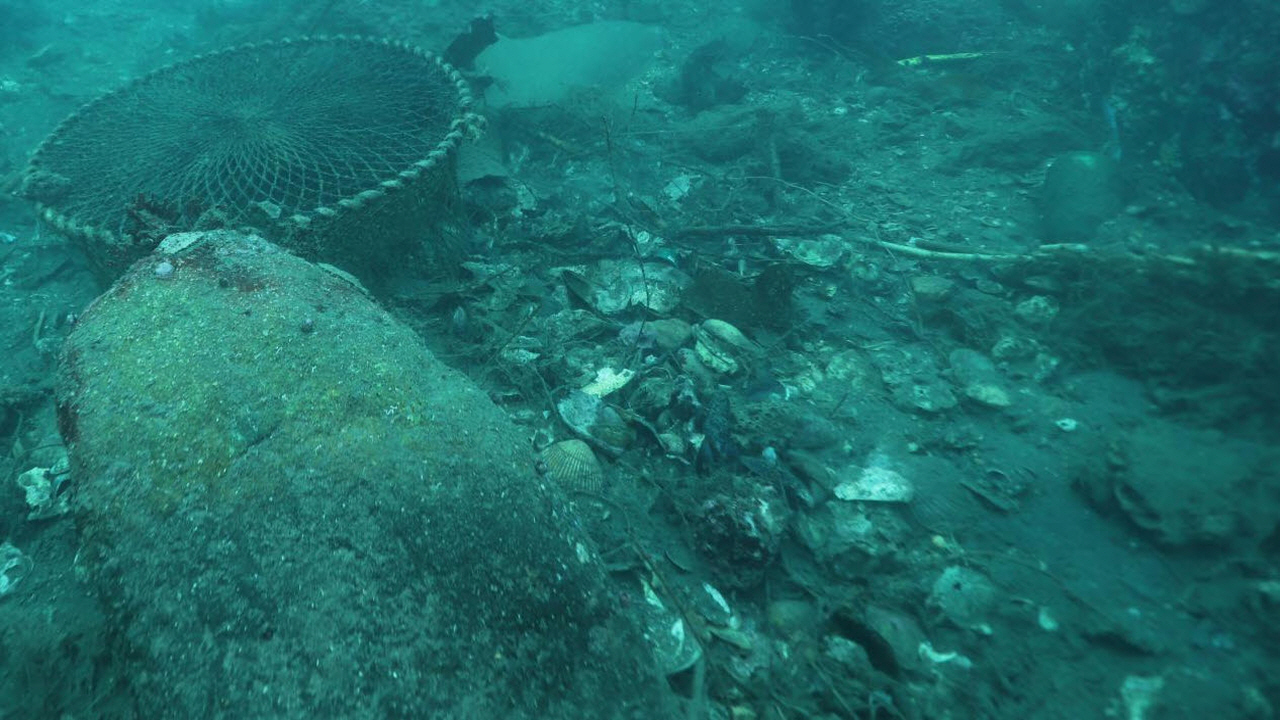circular fish trap: (24, 32, 475, 285)
